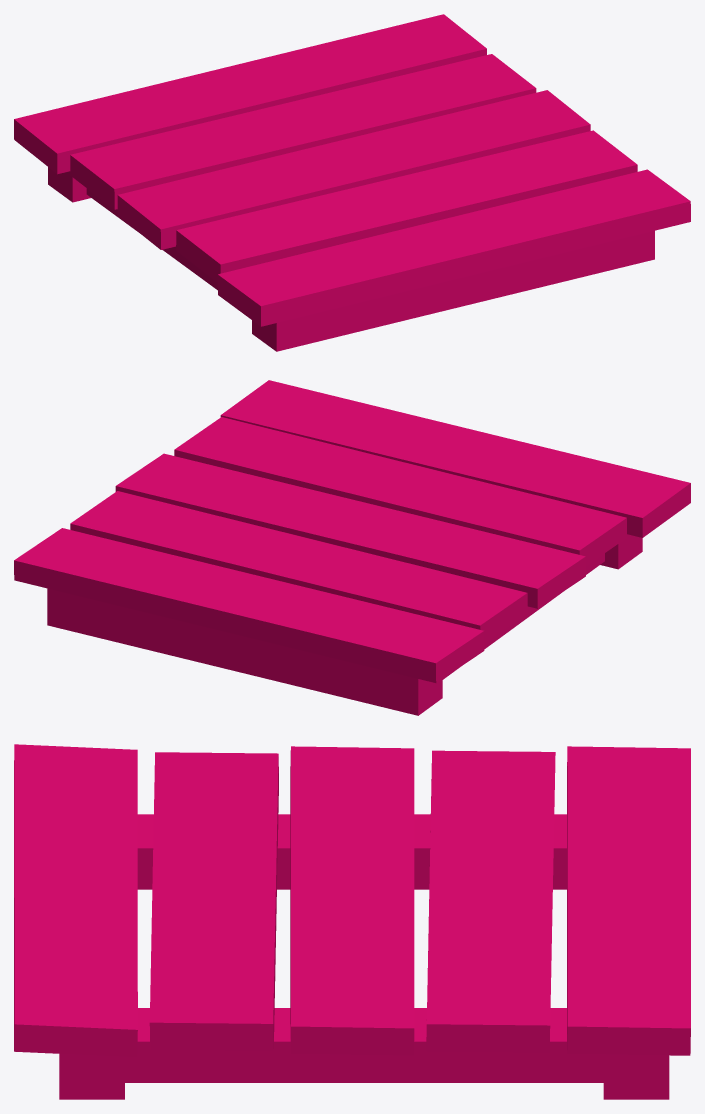
Rendered from Bastion_Floor_04_Lod0.fbx.
The picture shows the model from 3 angles, top to bottom: view 1: azimuth 30°, elevation 25°; view 2: azimuth 150°, elevation 25°; view 3: azimuth 270°, elevation 25°; orthographic projection. The views are drawn at different scales.
Parts seen in each view (by area): view 1: Bastion_Floor_04_Lod0; view 2: Bastion_Floor_04_Lod0; view 3: Bastion_Floor_04_Lod0.
Part boxes in pixels (box(x1,y1,x2,y2)): Bastion_Floor_04_Lod0: box(14, 14, 690, 351); Bastion_Floor_04_Lod0: box(14, 380, 690, 715); Bastion_Floor_04_Lod0: box(14, 744, 690, 1099).
Bounding box in the file's own units: 146 × 21 × 147.
